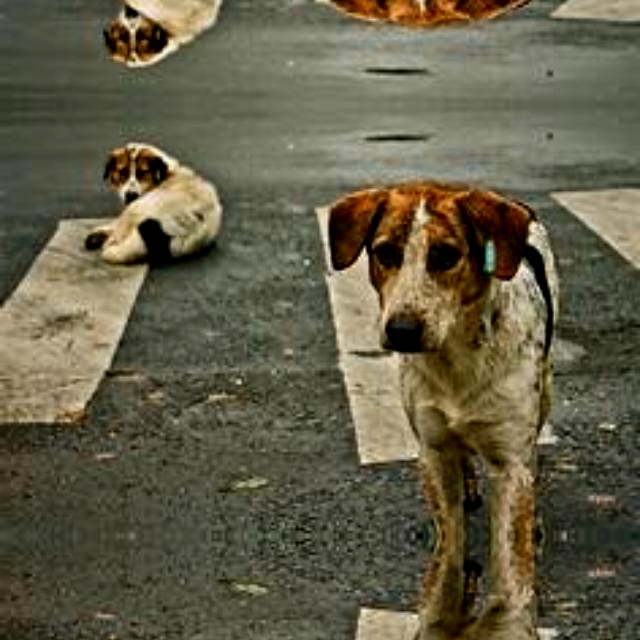dog: (331, 140, 583, 506), (84, 121, 255, 296), (331, 565, 584, 640), (331, 0, 584, 68), (84, 0, 255, 86)
